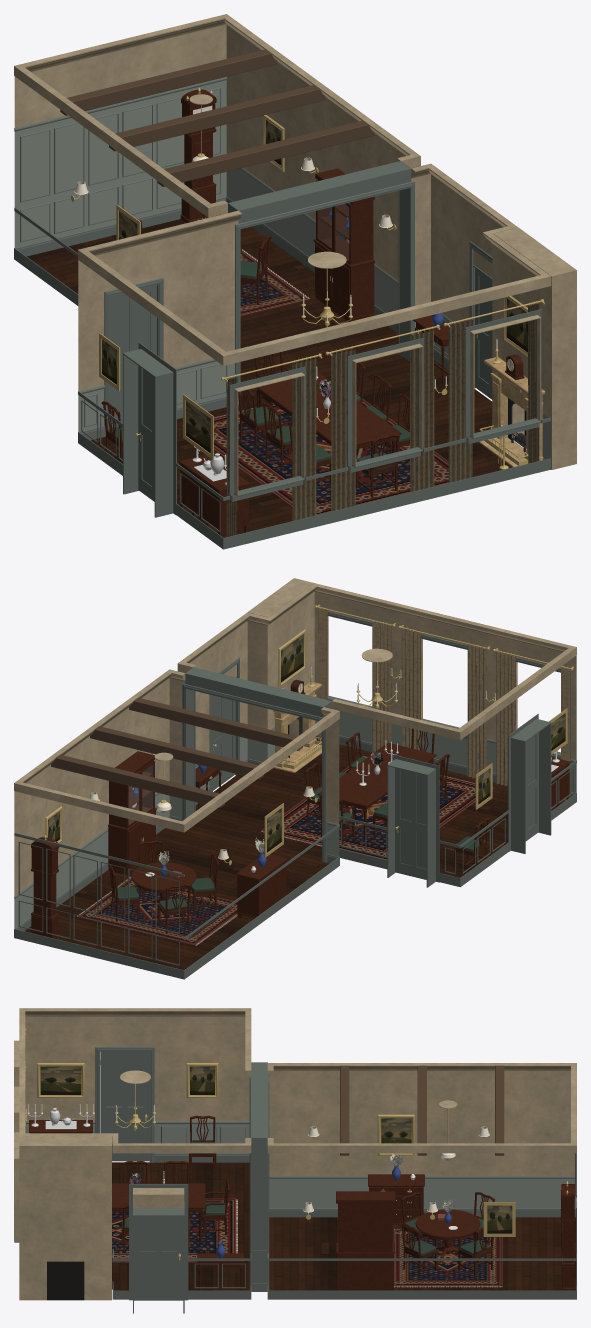
The model's file is room_dining.gltf.
3 views of the same model, one above another, from view 1: azimuth 30°, elevation 25°; view 2: azimuth 150°, elevation 25°; view 3: azimuth 270°, elevation 25° (orthographic). The views are drawn at different scales.
Visible parts, largest first — view 1: 餐厅·墙面、地面、线脚与梁, 餐厅·烟囱墙-col, 餐叙区·瓷器柜-col, 餐厅·地毯, 餐厅·壁炉-col, 餐厅·长餐桌-col, 餐厅·通走廊的门, 餐厅·餐边柜-col, 餐叙区·落地钟（停在七点）, 餐厅·通门厅的门, 餐叙区·地毯, 餐厅·通厨房的门（锁着） (+8 smaller); view 2: 餐厅·墙面、地面、线脚与梁, 餐叙区·地毯, 餐厅·地毯, 餐叙区·瓷器柜-col, 餐厅·通走廊的门, 餐厅·长餐桌-col, 餐叙区·落地钟（停在七点）, 餐叙区·五斗柜-col, 餐厅·壁炉-col, 餐叙区·圆桌-col, 餐厅·通门厅的门, 餐厅·通厨房的门（锁着） (+12 smaller); view 3: 餐厅·墙面、地面、线脚与梁, 餐厅·烟囱墙-col, 餐叙区·瓷器柜-col, 餐厅·通门厅的门, 餐厅·通厨房的门（锁着）, 餐叙区·地毯, 餐厅·地毯, 餐叙区·五斗柜-col, 餐厅·餐边柜上的油画, 餐叙区·圆桌-col, 餐叙区·落地钟（停在七点）, 餐叙区·西墙油画 (+12 smaller).
Part boxes in pixels (<box>): 餐厅·墙面、地面、线脚与梁: <box>14,14,551,549</box>; 餐厅·烟囱墙-col: <box>494,227,576,469</box>; 餐叙区·瓷器柜-col: <box>313,168,374,321</box>; 餐厅·地毯: <box>182,399,448,514</box>; 餐厅·壁炉-col: <box>478,357,545,469</box>; 餐厅·长餐桌-col: <box>256,371,401,476</box>; 餐厅·通走廊的门: <box>110,285,156,427</box>; 餐厅·餐边柜-col: <box>179,454,249,536</box>; 餐叙区·落地钟（停在七点）: <box>180,87,216,222</box>; 餐厅·通门厅的门: <box>135,366,154,501</box>; 餐叙区·地毯: <box>240,249,309,315</box>; 餐厅·通厨房的门（锁着）: <box>475,268,492,399</box>; 餐厅·墙面、地面、线脚与梁: <box>14,583,576,979</box>; 餐叙区·地毯: <box>77,877,237,945</box>; 餐厅·地毯: <box>261,756,493,859</box>; 餐叙区·瓷器柜-col: <box>108,751,156,875</box>; 餐厅·通走廊的门: <box>395,768,426,879</box>; 餐厅·长餐桌-col: <box>317,742,436,838</box>; 餐叙区·落地钟（停在七点）: <box>31,835,59,939</box>; 餐叙区·五斗柜-col: <box>236,853,287,918</box>; 餐厅·壁炉-col: <box>273,682,321,772</box>; 餐叙区·圆桌-col: <box>131,862,196,917</box>; 餐厅·通门厅的门: <box>525,732,538,841</box>; 餐厅·通厨房的门（锁着）: <box>213,695,235,790</box>; 餐厅·墙面、地面、线脚与梁: <box>14,1008,576,1313</box>; 餐厅·烟囱墙-col: <box>19,1136,111,1300</box>; 餐叙区·瓷器柜-col: <box>336,1191,394,1290</box>; 餐厅·通门厅的门: <box>100,1051,149,1161</box>; 餐厅·通厨房的门（锁着）: <box>134,1216,183,1300</box>; 餐叙区·地毯: <box>394,1229,502,1287</box>; 餐厅·地毯: <box>112,1198,237,1262</box>; 餐叙区·五斗柜-col: <box>368,1174,424,1224</box>; 餐厅·餐边柜上的油画: <box>37,1063,84,1097</box>; 餐叙区·圆桌-col: <box>415,1209,480,1264</box>; 餐叙区·落地钟（停在七点）: <box>560,1181,575,1290</box>; 餐叙区·西墙油画: <box>377,1114,414,1155</box>.
Bounding box in the file's own units: 7.22 × 3.3 × 10.89.
32 materials, 12 textured.
